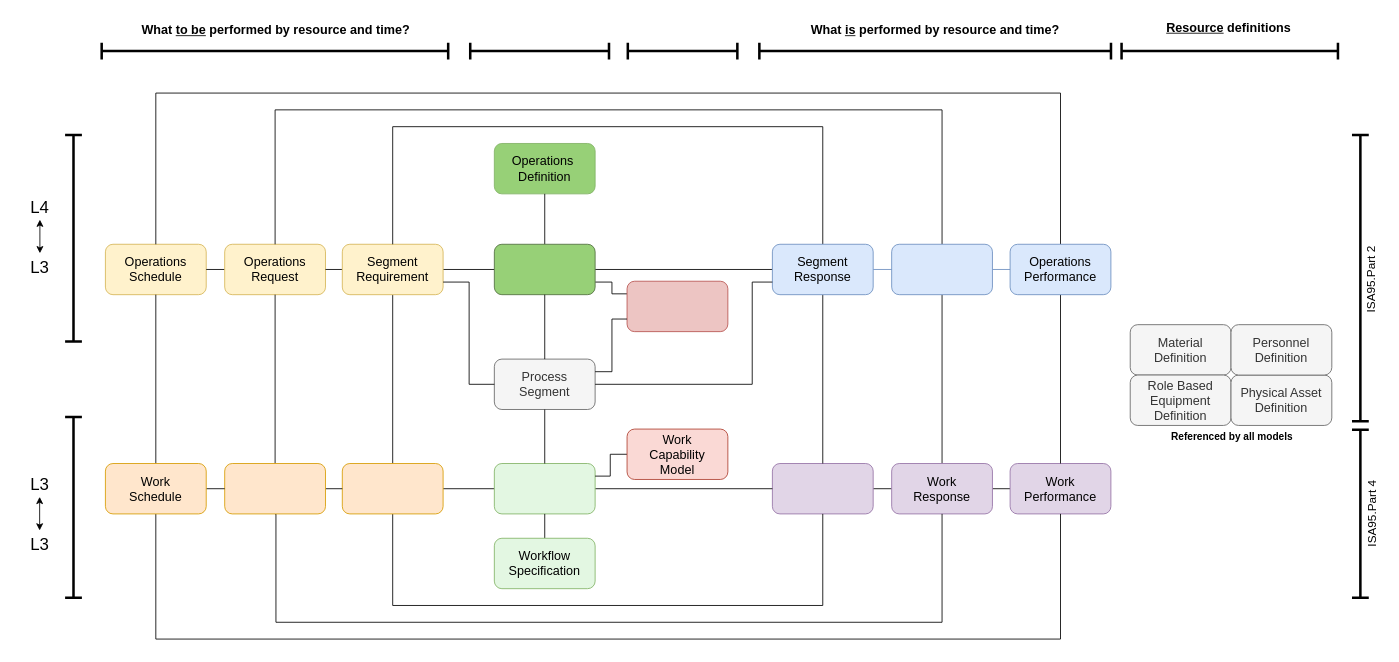
This 1399x662 diagram has some shape labels left out. Here are the shapes that lost their labels. From the top down, the centre of each, then its label:
At point (539, 50): "How to be performed?".
At point (682, 50): "What is available ?".
At point (544, 269): "Operations Segment".
At point (941, 269): "Operations Response".
At point (677, 306): "Operations Capability Model".
At point (275, 488): "Work Request".
At point (392, 488): "Job Order".
At point (544, 488): "Work Master / Directive".
At point (822, 488): "Job Response".
